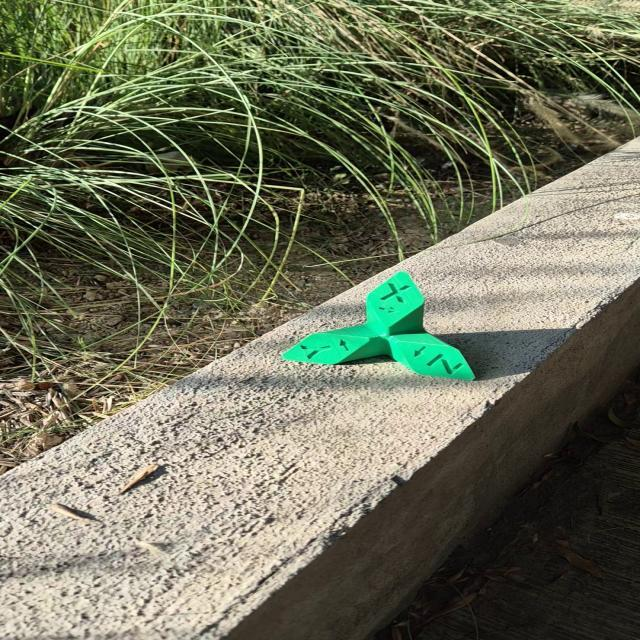eje: (278, 270, 478, 382)
